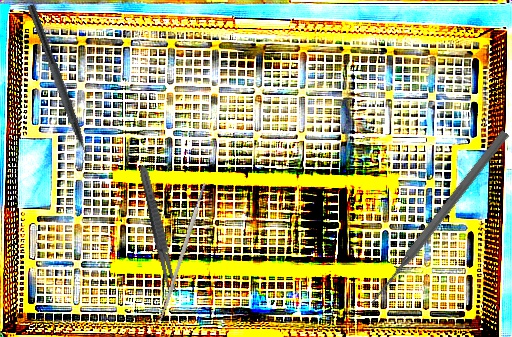Chopper: (15, 2, 98, 174)
Dressing Forceps: (135, 164, 182, 298)
Pusher: (366, 128, 511, 308)
Scalpel Handle: (157, 181, 209, 323)
